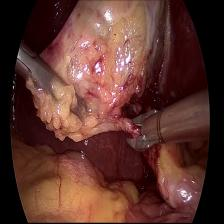Clipper: (125, 101, 166, 157)
Grasper: (18, 37, 95, 136)
